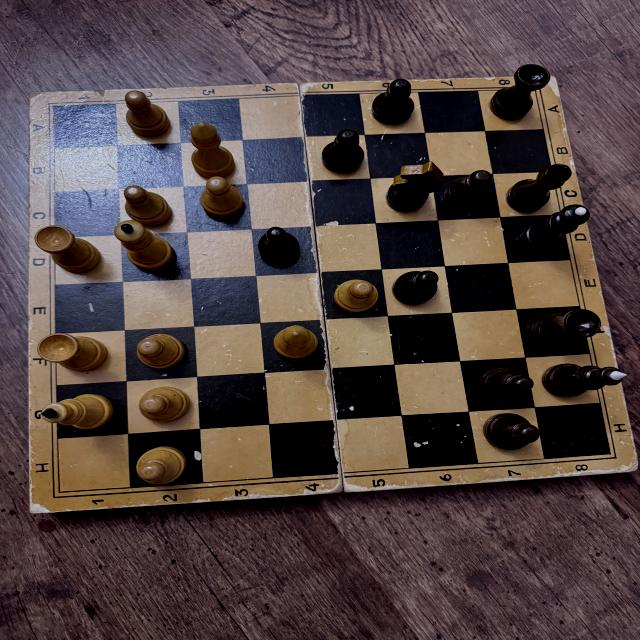black-bishop: (506, 163, 573, 213)
black-king: (541, 363, 627, 396)
black-knight: (383, 162, 443, 214)
black-pawn: (445, 168, 492, 214), (485, 412, 539, 450), (371, 79, 416, 124), (478, 366, 533, 402), (322, 129, 365, 174), (258, 226, 300, 263), (394, 270, 437, 305)
black-queen: (522, 205, 592, 254)
black-rook: (486, 62, 548, 124), (527, 307, 602, 353)
white-bishop: (188, 122, 237, 178), (273, 324, 320, 360)
white-king: (41, 394, 116, 432)
white-pawn: (124, 91, 173, 138), (124, 185, 173, 227), (200, 176, 247, 219), (137, 448, 185, 486), (134, 334, 186, 369), (140, 386, 190, 422), (332, 279, 379, 312)
white-queen: (114, 222, 178, 272)
white-rook: (35, 226, 102, 275), (38, 334, 110, 371)
